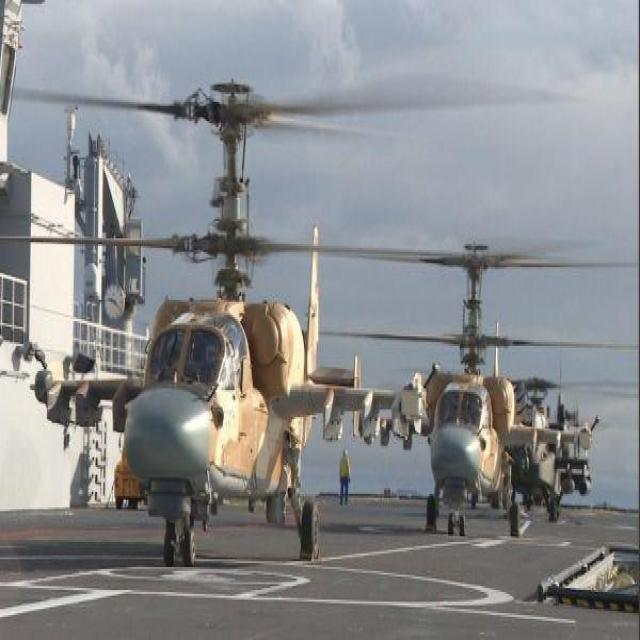MIL_HELO: (0, 60, 452, 572)
